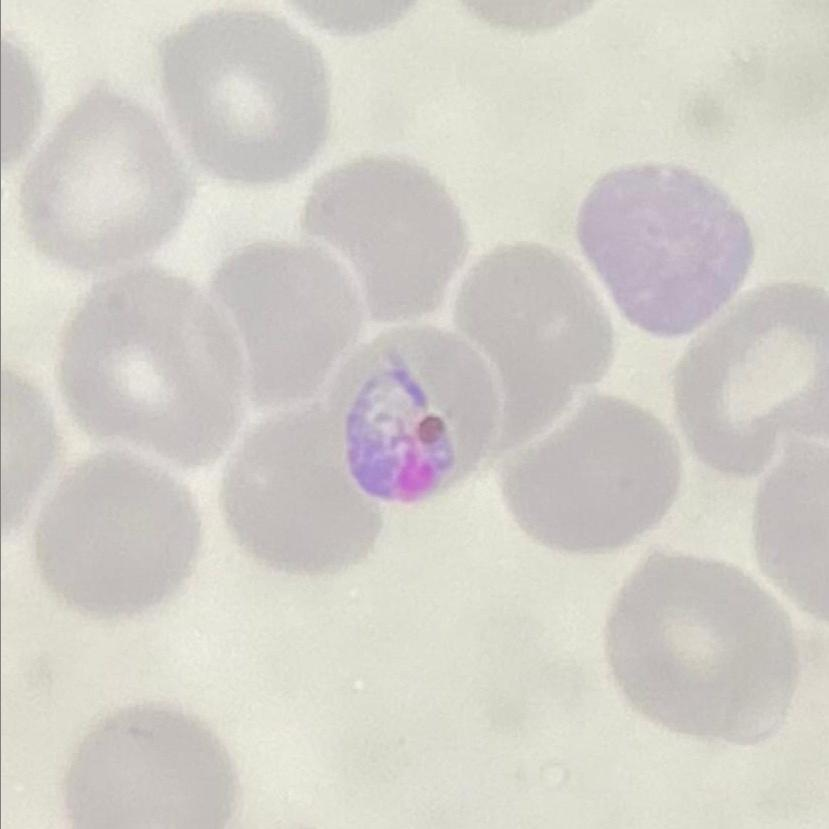Infected: (324, 327, 504, 504)
Uninfected: (57, 266, 248, 465), (604, 551, 797, 745), (19, 87, 196, 274), (158, 7, 335, 184), (462, 249, 621, 446), (673, 281, 829, 476), (577, 163, 751, 333), (33, 449, 205, 619), (503, 395, 681, 556), (222, 406, 387, 577), (303, 156, 470, 319), (209, 242, 369, 410), (62, 705, 239, 828)
